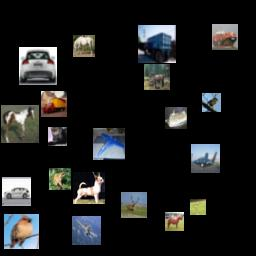airplane: (93, 128, 125, 160), (72, 216, 101, 245), (191, 144, 220, 173)
automobile: (19, 47, 57, 85), (2, 177, 31, 206)
bird: (4, 214, 39, 249), (202, 93, 221, 112)
cat: (48, 127, 67, 146)
deer: (121, 192, 147, 218), (190, 199, 206, 215)
dog: (73, 172, 105, 204)
frog: (49, 168, 71, 190)
ship: (212, 24, 238, 50), (165, 107, 187, 129)
truck: (138, 25, 176, 63), (41, 91, 67, 117)
